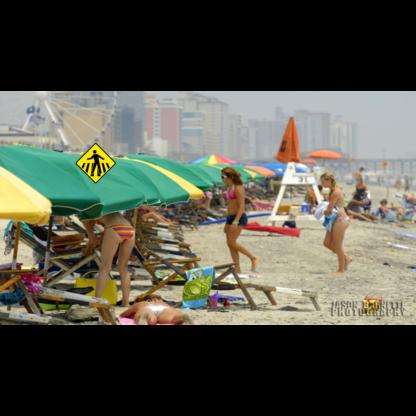A-32b: (75, 142, 116, 184)
